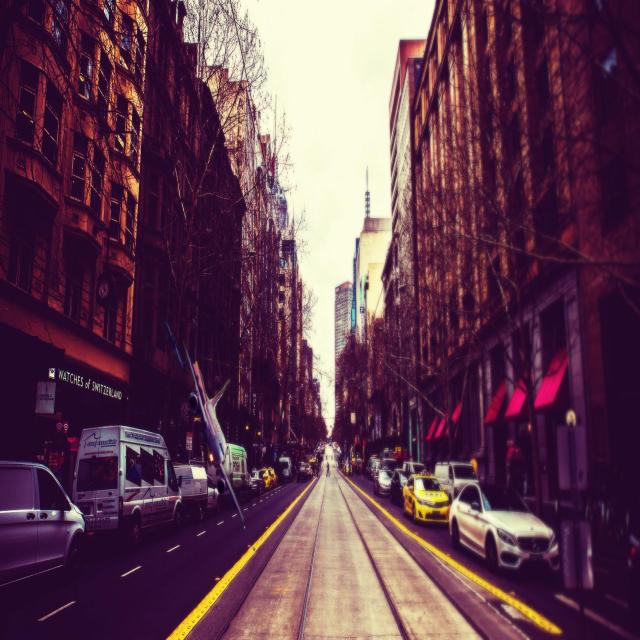airplane: (163, 320, 248, 529)
